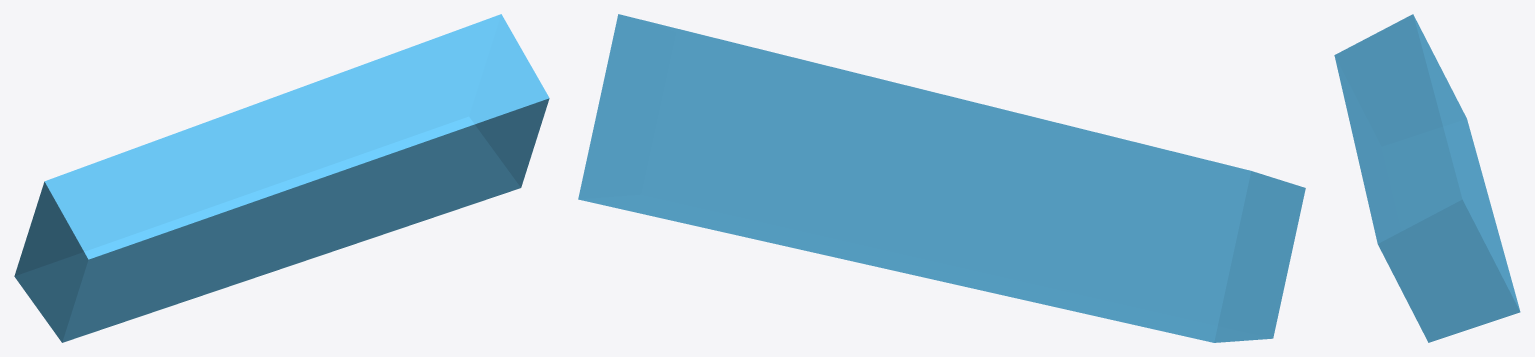
Rendered from Event_421556567_HErechit_63.fbx.
3 renders of one model, left to right at view 1: azimuth 30°, elevation 25°; view 2: azimuth 150°, elevation 25°; view 3: azimuth 270°, elevation 25°, orthographic. The views are drawn at different scales.
Parts seen in each view (by area): view 1: Model; view 2: Model; view 3: Model.
Part boxes in pixels (bbox=[...]): Model: bbox=[14, 14, 549, 342]; Model: bbox=[578, 14, 1305, 342]; Model: bbox=[1334, 14, 1520, 342].
Size of the model in its own units: 0.8302 by 0.2904 by 0.3087.
